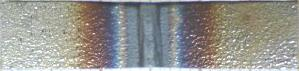soldas: (74, 1, 218, 69)
